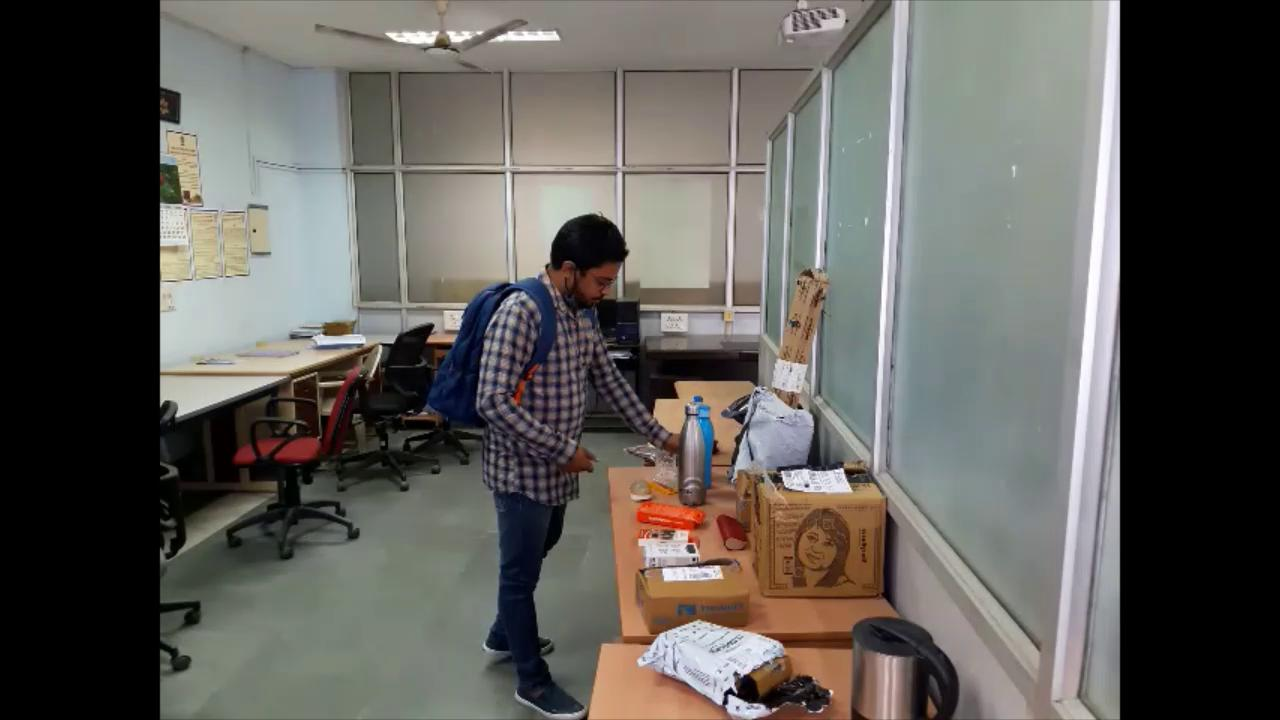Normal: (420, 200, 714, 720)
